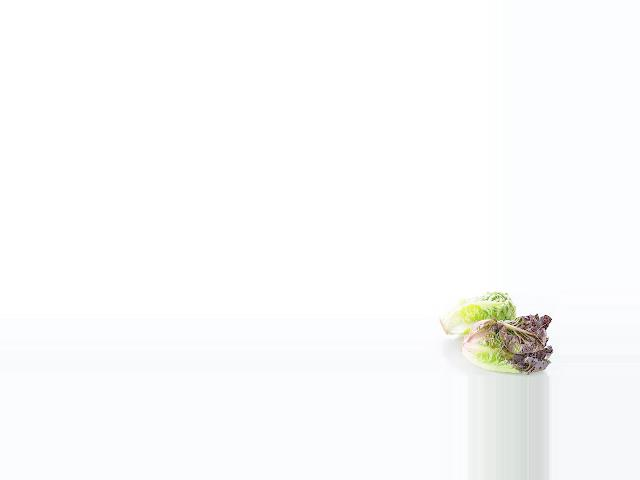lettuce: (436, 290, 517, 337)
